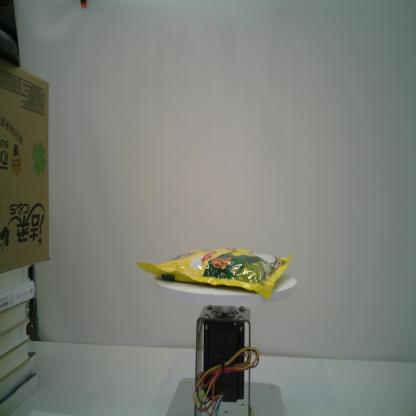Seasoner: (135, 246, 296, 301)
